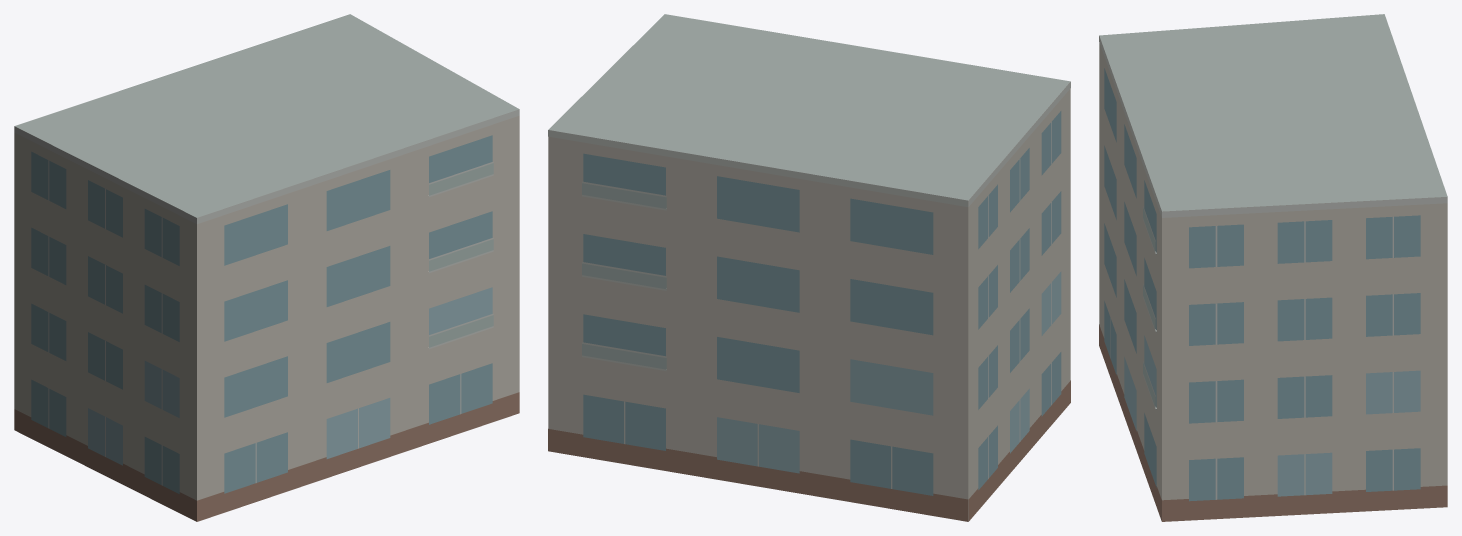
The model's file is survey-upis-32575604.glb.
The picture shows the model from 3 angles, left to right: view 1: azimuth 30°, elevation 25°; view 2: azimuth 150°, elevation 25°; view 3: azimuth 270°, elevation 25°; orthographic projection. The views are drawn at different scales.
Parts seen in each view (by area): view 1: survey-upis-32575604.tmp; view 2: survey-upis-32575604.tmp; view 3: survey-upis-32575604.tmp.
Boxes of the visible parts, x1=… form: survey-upis-32575604.tmp: x1=14, y1=14, x2=519, y2=521; survey-upis-32575604.tmp: x1=548, y1=14, x2=1070, y2=521; survey-upis-32575604.tmp: x1=1099, y1=14, x2=1447, y2=521.
Bounding box in the file's own units: 15.98 × 11.7 × 11.92.
